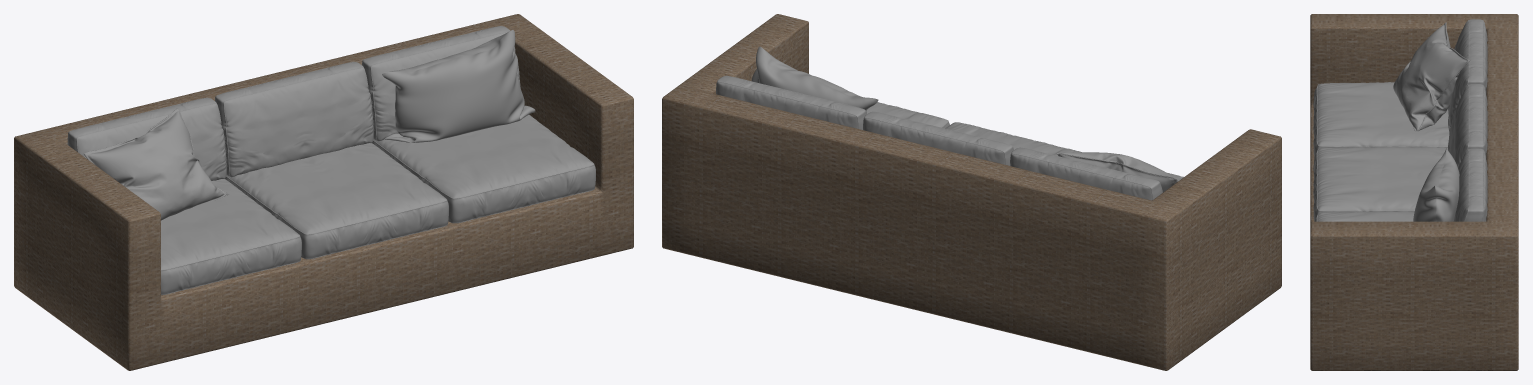
Rendered from sofa.glb.
3 renders of one model, left to right at view 1: azimuth 30°, elevation 25°; view 2: azimuth 150°, elevation 25°; view 3: azimuth 270°, elevation 25°, orthographic. The views are drawn at different scales.
Parts seen in each view (by area): view 1: couch fiber seat three; view 2: couch fiber seat three; view 3: couch fiber seat three.
Part boxes in pixels (bbox=[...]): couch fiber seat three: bbox=[14, 14, 633, 370]; couch fiber seat three: bbox=[662, 14, 1281, 370]; couch fiber seat three: bbox=[1310, 14, 1518, 370].
Size of the model in its own units: 2.45 by 0.8462 by 0.97.
3 materials, 2 textured.
